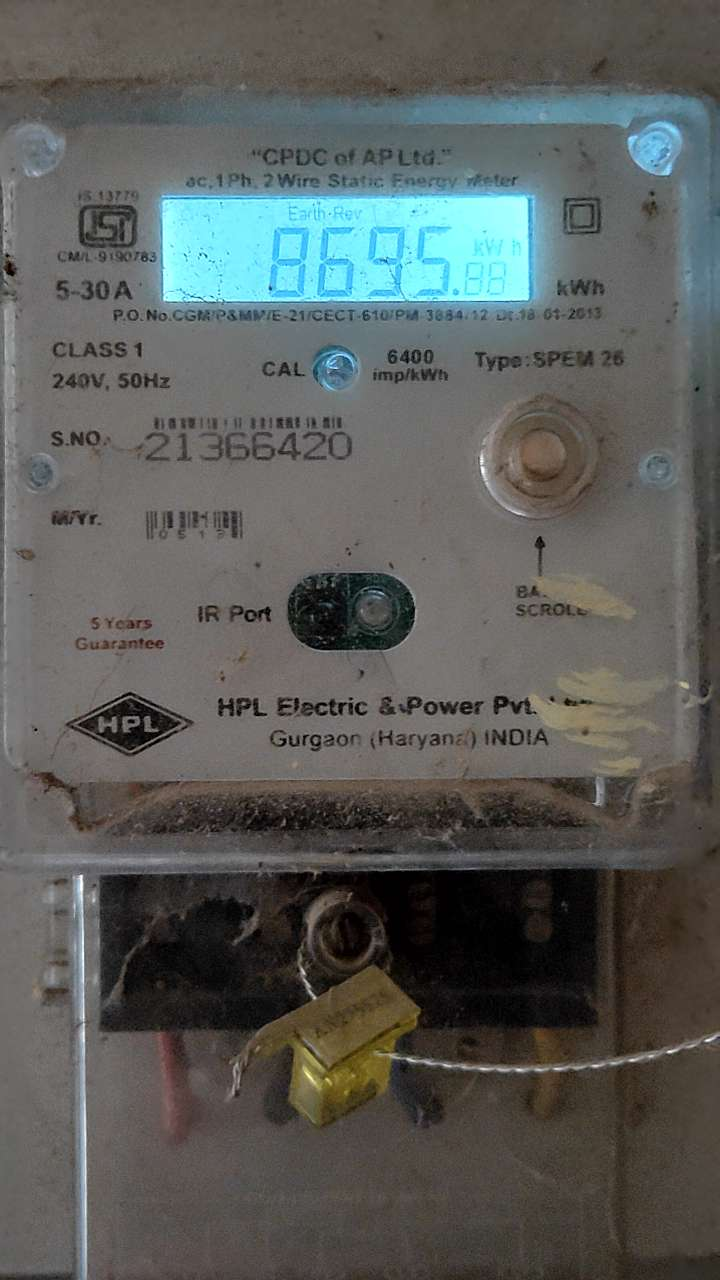meter_serial_number: (134, 427, 366, 465)
